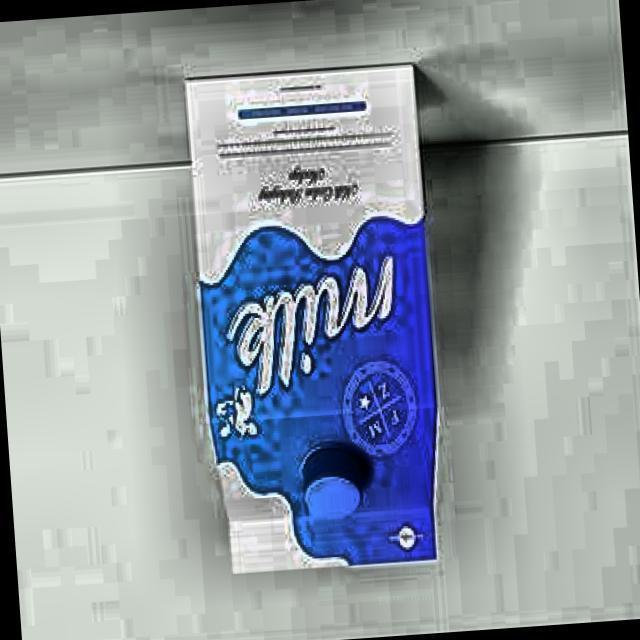cardboard: (184, 64, 451, 578)
